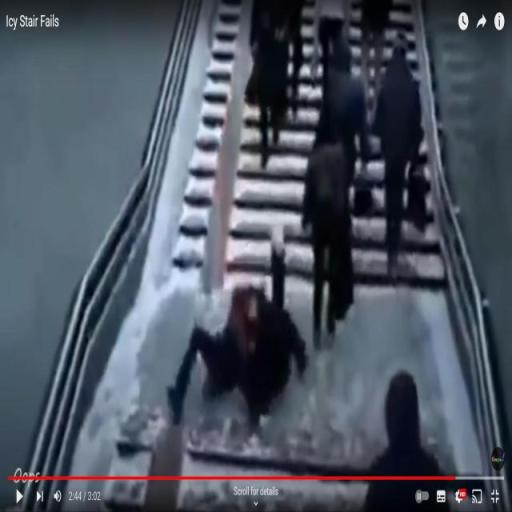Fall: (164, 274, 262, 437), (248, 213, 311, 433)
